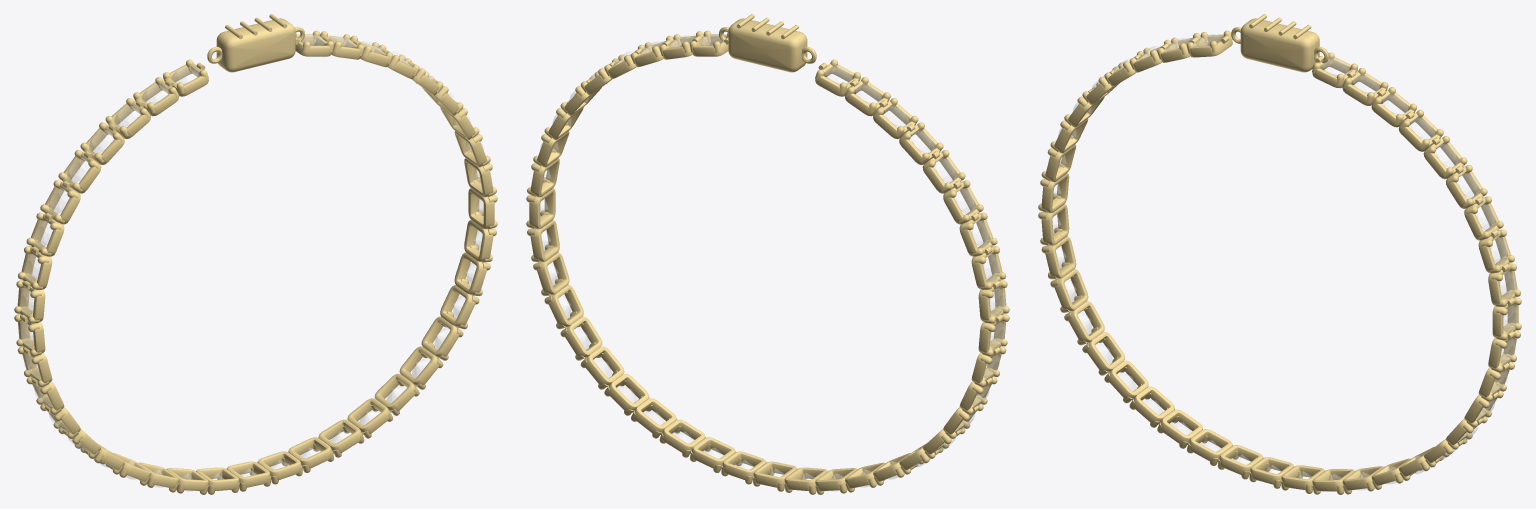
Rendered from tennis_bracelet.glb.
The picture shows the model from 3 angles, left to right: view 1: azimuth 30°, elevation 25°; view 2: azimuth 150°, elevation 25°; view 3: azimuth 330°, elevation 25°; orthographic projection.
Parts seen in each view (by area): view 1: tennis_bracelet; view 2: tennis_bracelet; view 3: tennis_bracelet.
Boxes of the visible parts, x1,y1,x2,y2 form: tennis_bracelet: [14, 14, 497, 494]; tennis_bracelet: [526, 14, 1009, 494]; tennis_bracelet: [1038, 14, 1521, 494].
Bounding box in the file's own units: 5.73 × 5.35 × 0.385.
